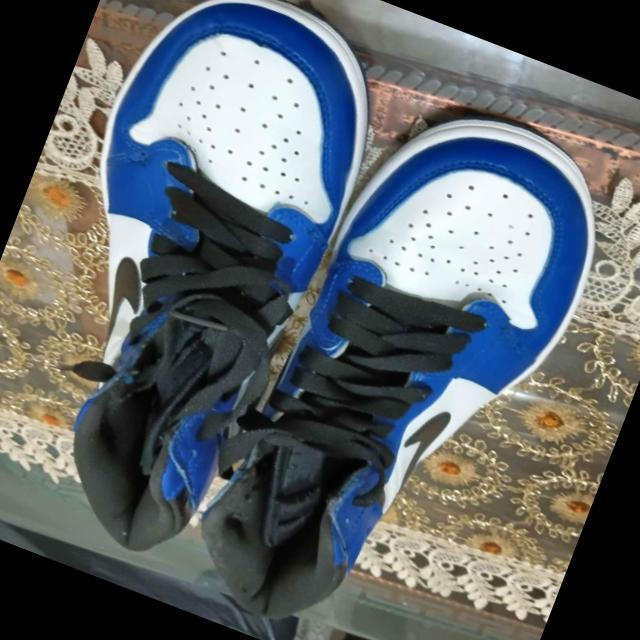nike fake jordan 1: (176, 68, 635, 640), (0, 0, 405, 578)
